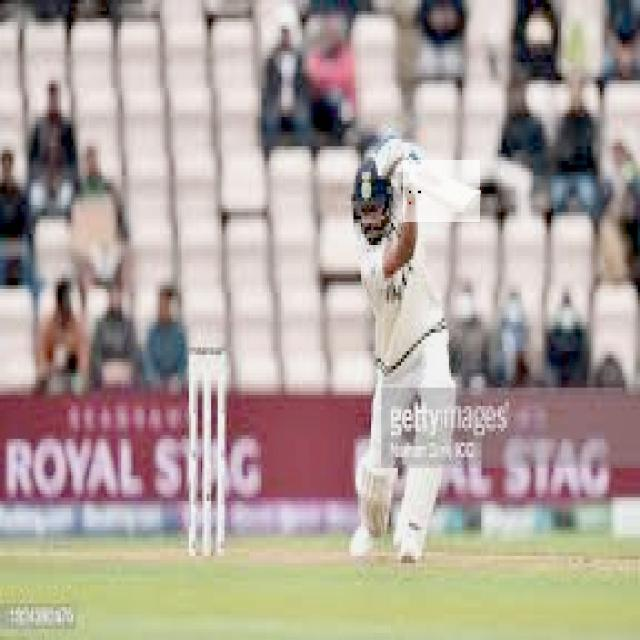bat: (404, 163, 483, 223)
toe: (464, 187, 480, 220)
